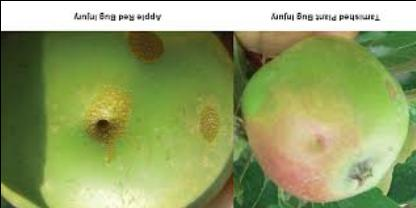defect: (51, 33, 222, 179)
